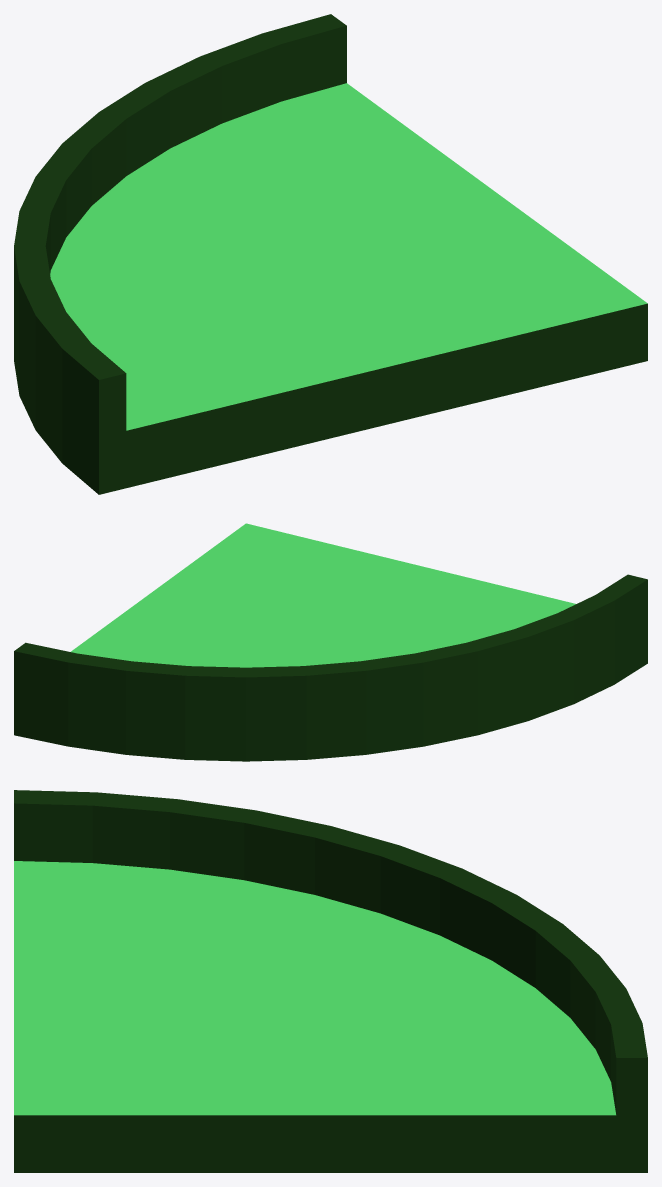
3 renders of one model, top to bottom at view 1: azimuth 30°, elevation 25°; view 2: azimuth 150°, elevation 25°; view 3: azimuth 270°, elevation 25°, orthographic. The views are drawn at different scales.
Visible parts, largest first — view 1: MG Curve 2; view 2: MG Curve 2; view 3: MG Curve 2.
Part boxes in pixels (x1,y1,x2,y2): MG Curve 2: [14, 14, 647, 494]; MG Curve 2: [14, 523, 647, 761]; MG Curve 2: [14, 790, 647, 1172].
Size of the model in its own units: 200 by 40 by 200.
